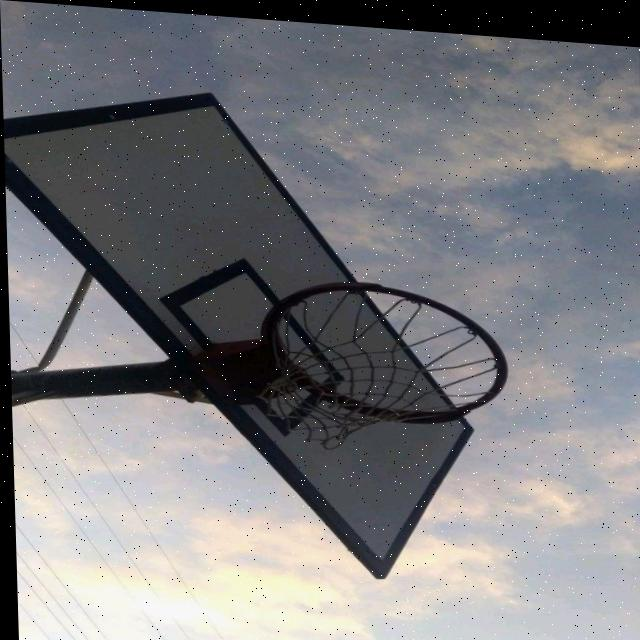hoop: (290, 270, 509, 463)
